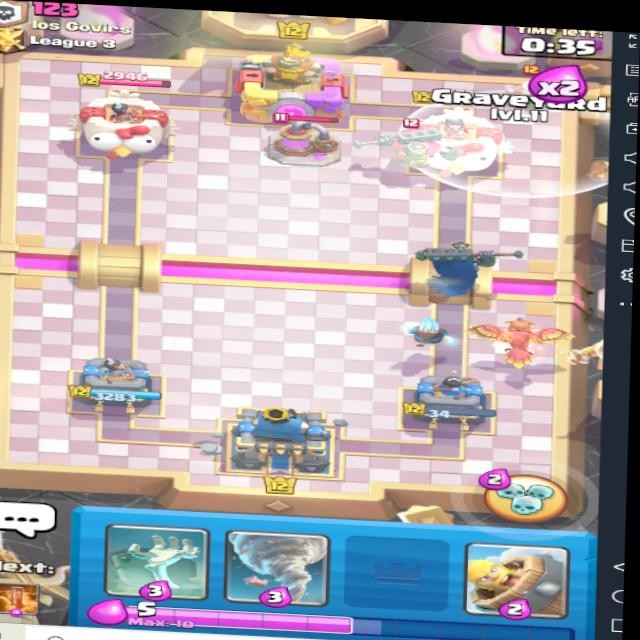Marcher: (498, 75, 553, 127)
Pump: (255, 117, 355, 179)
skellyking: (383, 128, 445, 184)
